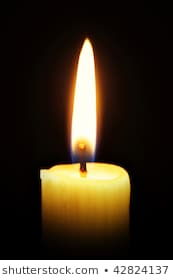Fire: (69, 34, 98, 172)
